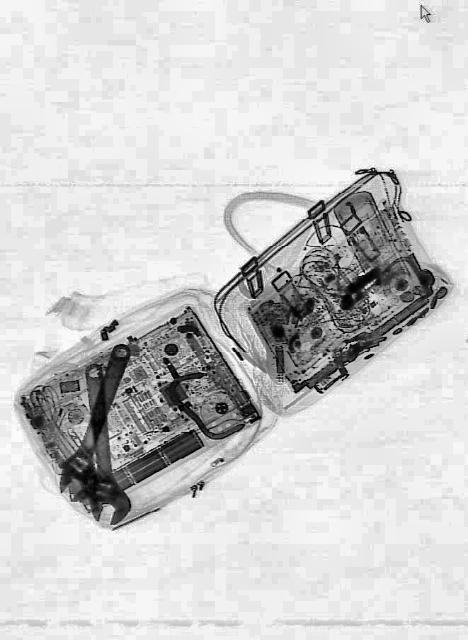Wrench: (48, 332, 144, 512), (72, 359, 132, 529)
